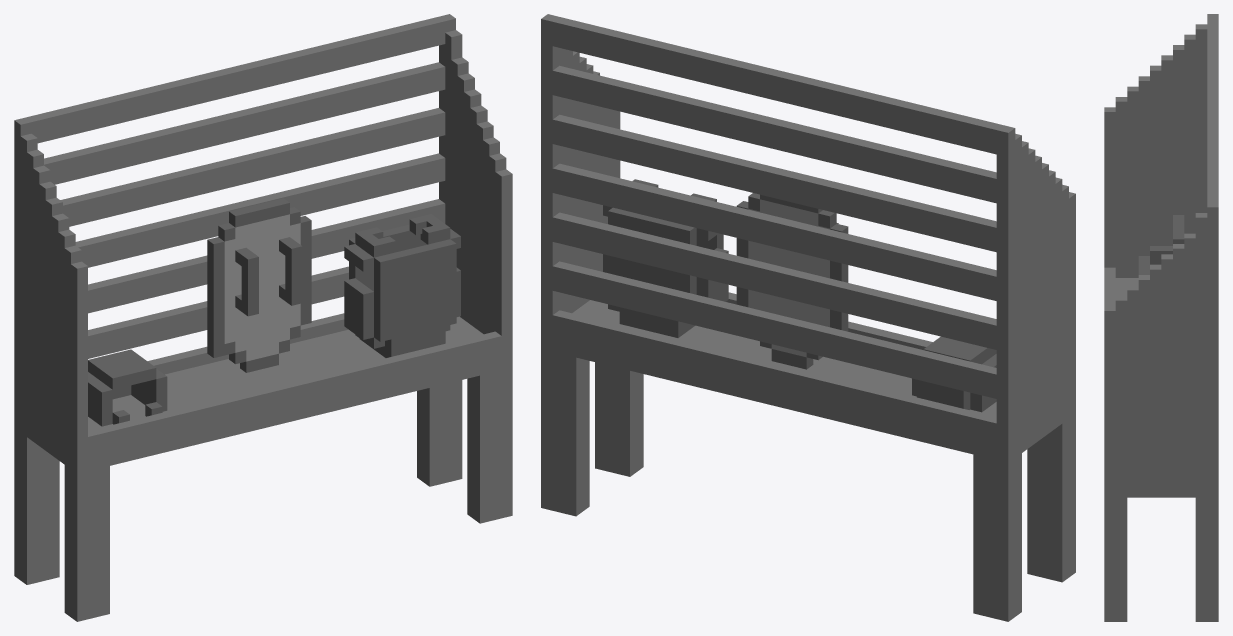
Rendered from Weapon_stand.obj.
3 views of the same model, side by side, from view 1: azimuth 30°, elevation 25°; view 2: azimuth 150°, elevation 25°; view 3: azimuth 270°, elevation 25° (orthographic). The views are drawn at different scales.
Size of the model in its own units: 4 by 4 by 1.
Materials: 1 (1 with a texture image).
